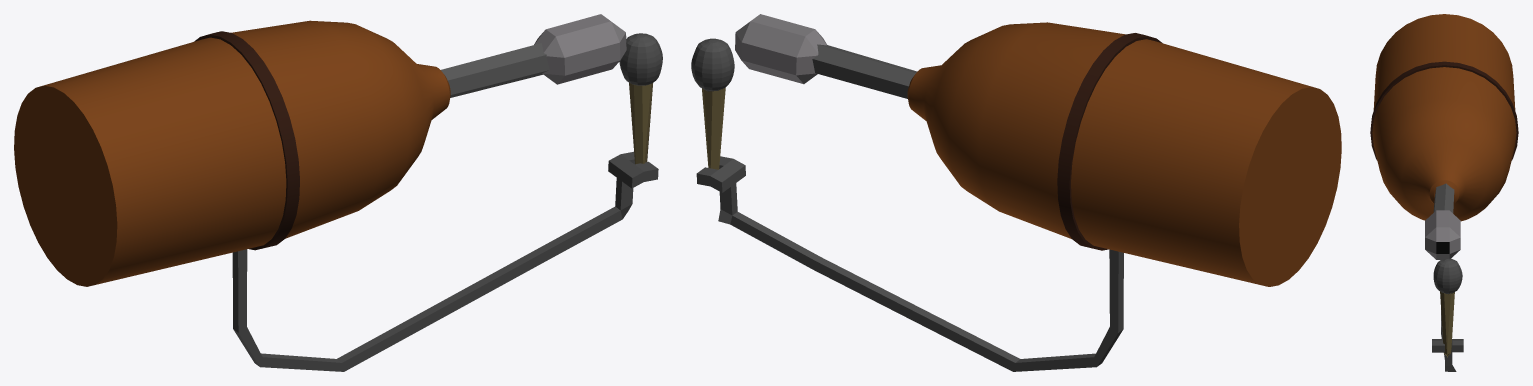
The model's file is flame2223.fbx.
3 renders of one model, left to right at view 1: azimuth 30°, elevation 25°; view 2: azimuth 150°, elevation 25°; view 3: azimuth 270°, elevation 25°, orthographic. The views are drawn at different scales.
Visible parts, largest first — view 1: Cylinder, Cube.006, Cube.005, Cylinder.001, Sphere, Cube.007; view 2: Cylinder, Cube.006, Cube.005, Cylinder.001, Sphere, Cube.007; view 3: Cylinder, Cube.005, Sphere, Cube.007, Cube.006, Cylinder.001.
Part boxes in pixels (left/top/right/bottom): Cylinder: left=14, top=20, right=450, bottom=286; Cube.006: left=232, top=151, right=658, bottom=371; Cube.005: left=534, top=14, right=626, bottom=84; Cylinder.001: left=441, top=43, right=549, bottom=97; Sphere: left=619, top=33, right=662, bottom=85; Cube.007: left=629, top=82, right=652, bottom=164; Cylinder: left=907, top=22, right=1341, bottom=286; Cube.006: left=696, top=156, right=1123, bottom=371; Cube.005: left=735, top=14, right=826, bottom=84; Cylinder.001: left=812, top=44, right=917, bottom=98; Sphere: left=691, top=38, right=734, bottom=91; Cube.007: left=702, top=87, right=725, bottom=169; Cylinder: left=1370, top=14, right=1518, bottom=221; Cube.005: left=1425, top=210, right=1460, bottom=259; Sphere: left=1433, top=258, right=1462, bottom=294; Cube.007: left=1440, top=291, right=1454, bottom=357; Cube.006: left=1432, top=310, right=1463, bottom=371; Cylinder.001: left=1433, top=183, right=1454, bottom=213.
Bounding box in the file's own units: 316 × 179 × 101.
